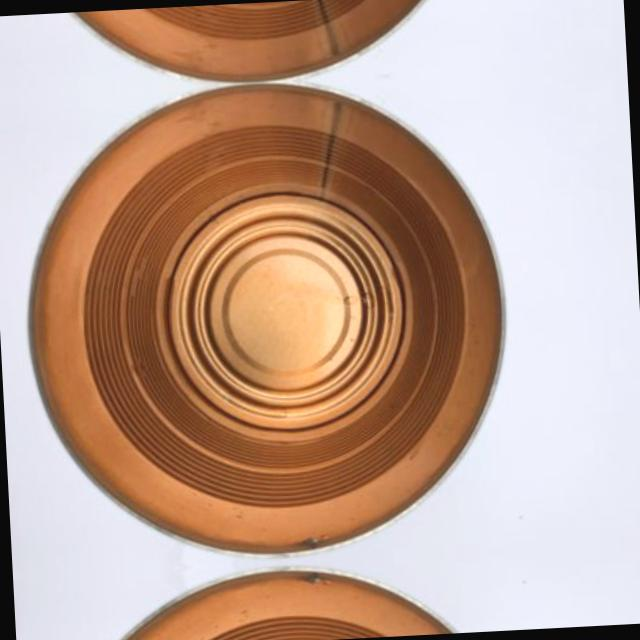Metal: (0, 68, 562, 567), (0, 0, 538, 97), (17, 556, 567, 640)
